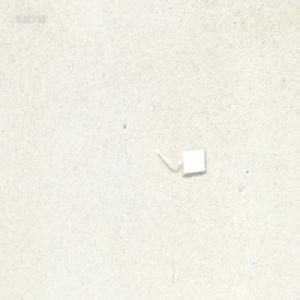LuggageTag: (156, 146, 206, 175)
